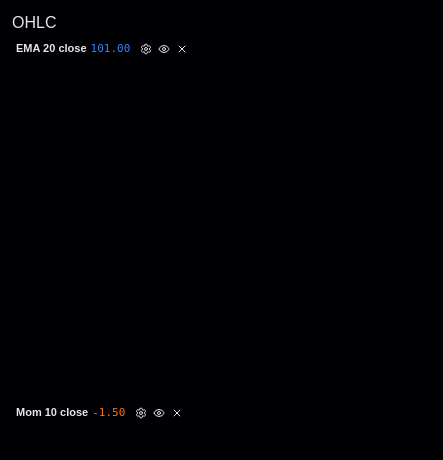
IndicatorLegends › should open the settings modal from the gear
Click the button named "Settings: EMA 20 close" at {"x": 146, "y": 49}, box [138,41,154,57]
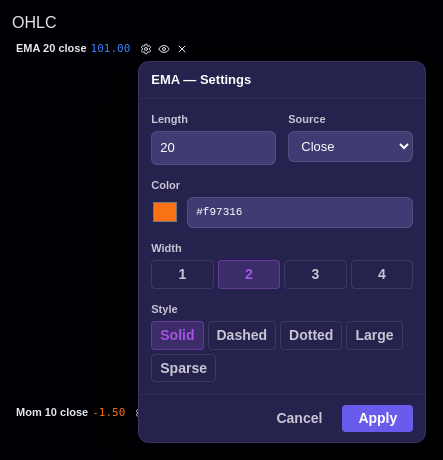
Expected: the text "EMA — Settings" is shown, [139,62,425,98]
